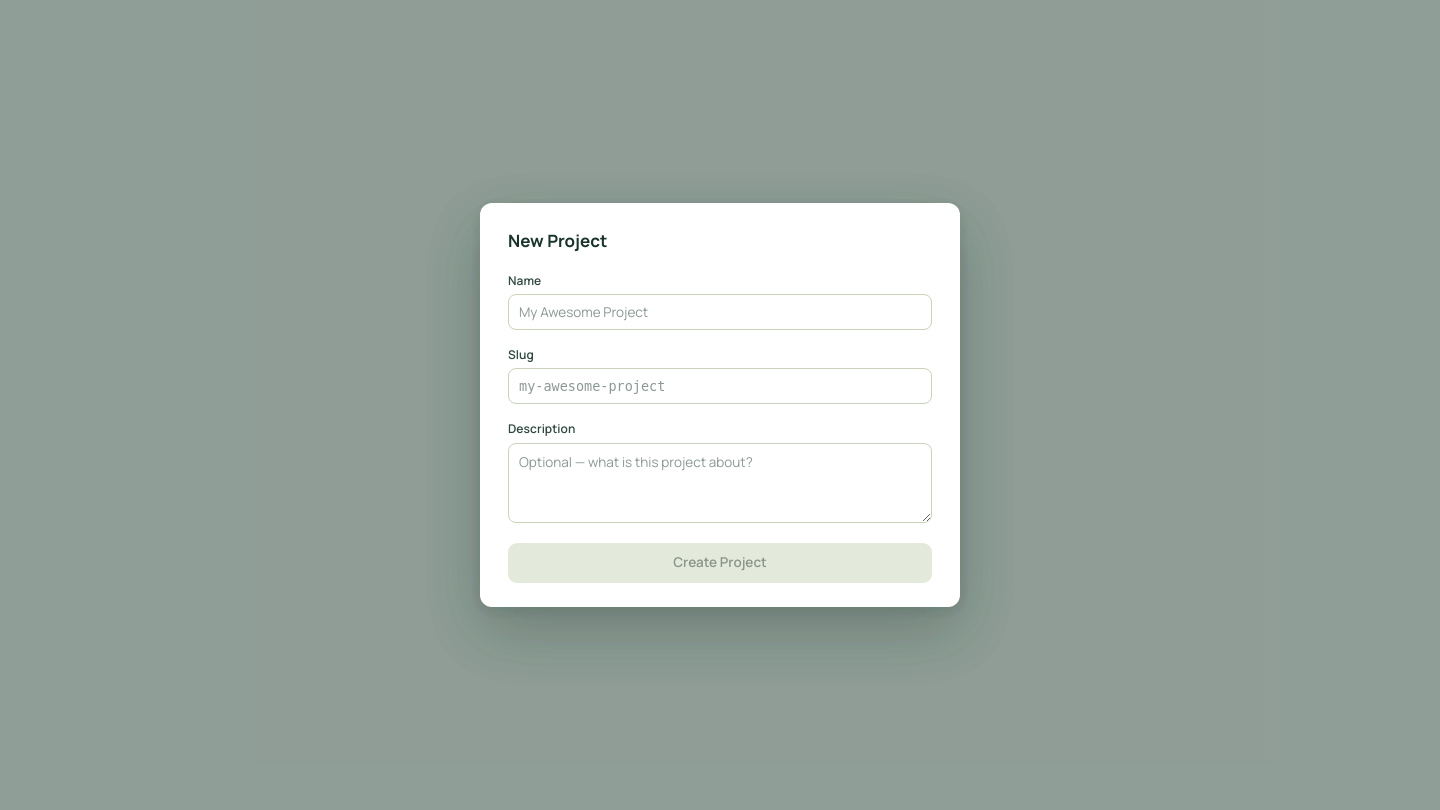
it: ProjectFormModal — create mode › shows Available indicator after availability check returns true
The image size is (1440, 810).
Step 1. Type "My Project" into the field labelled "Name" → coordinates (720, 312), box [508, 294, 932, 330]
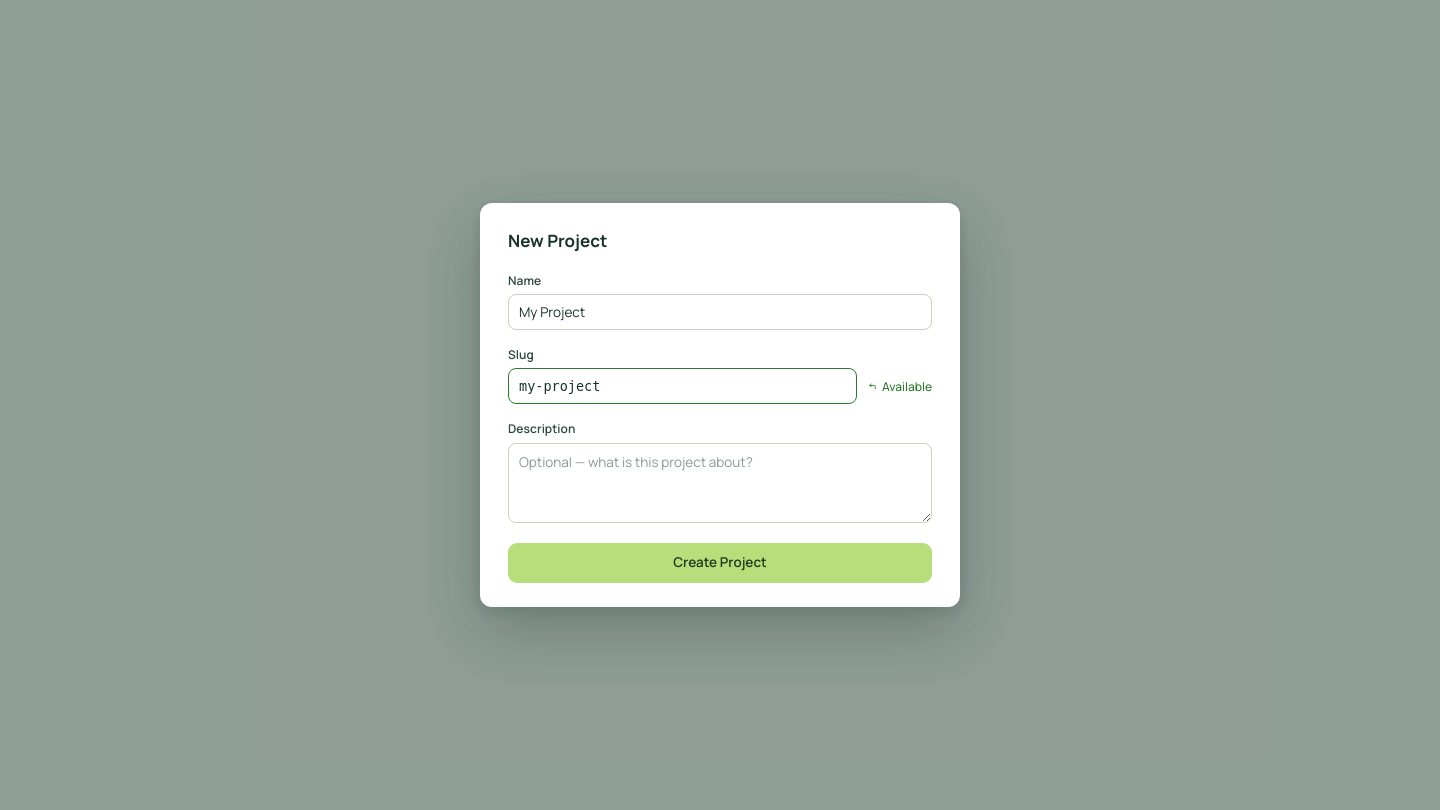
Check: the text "Available" is shown, box [865, 378, 932, 395]
